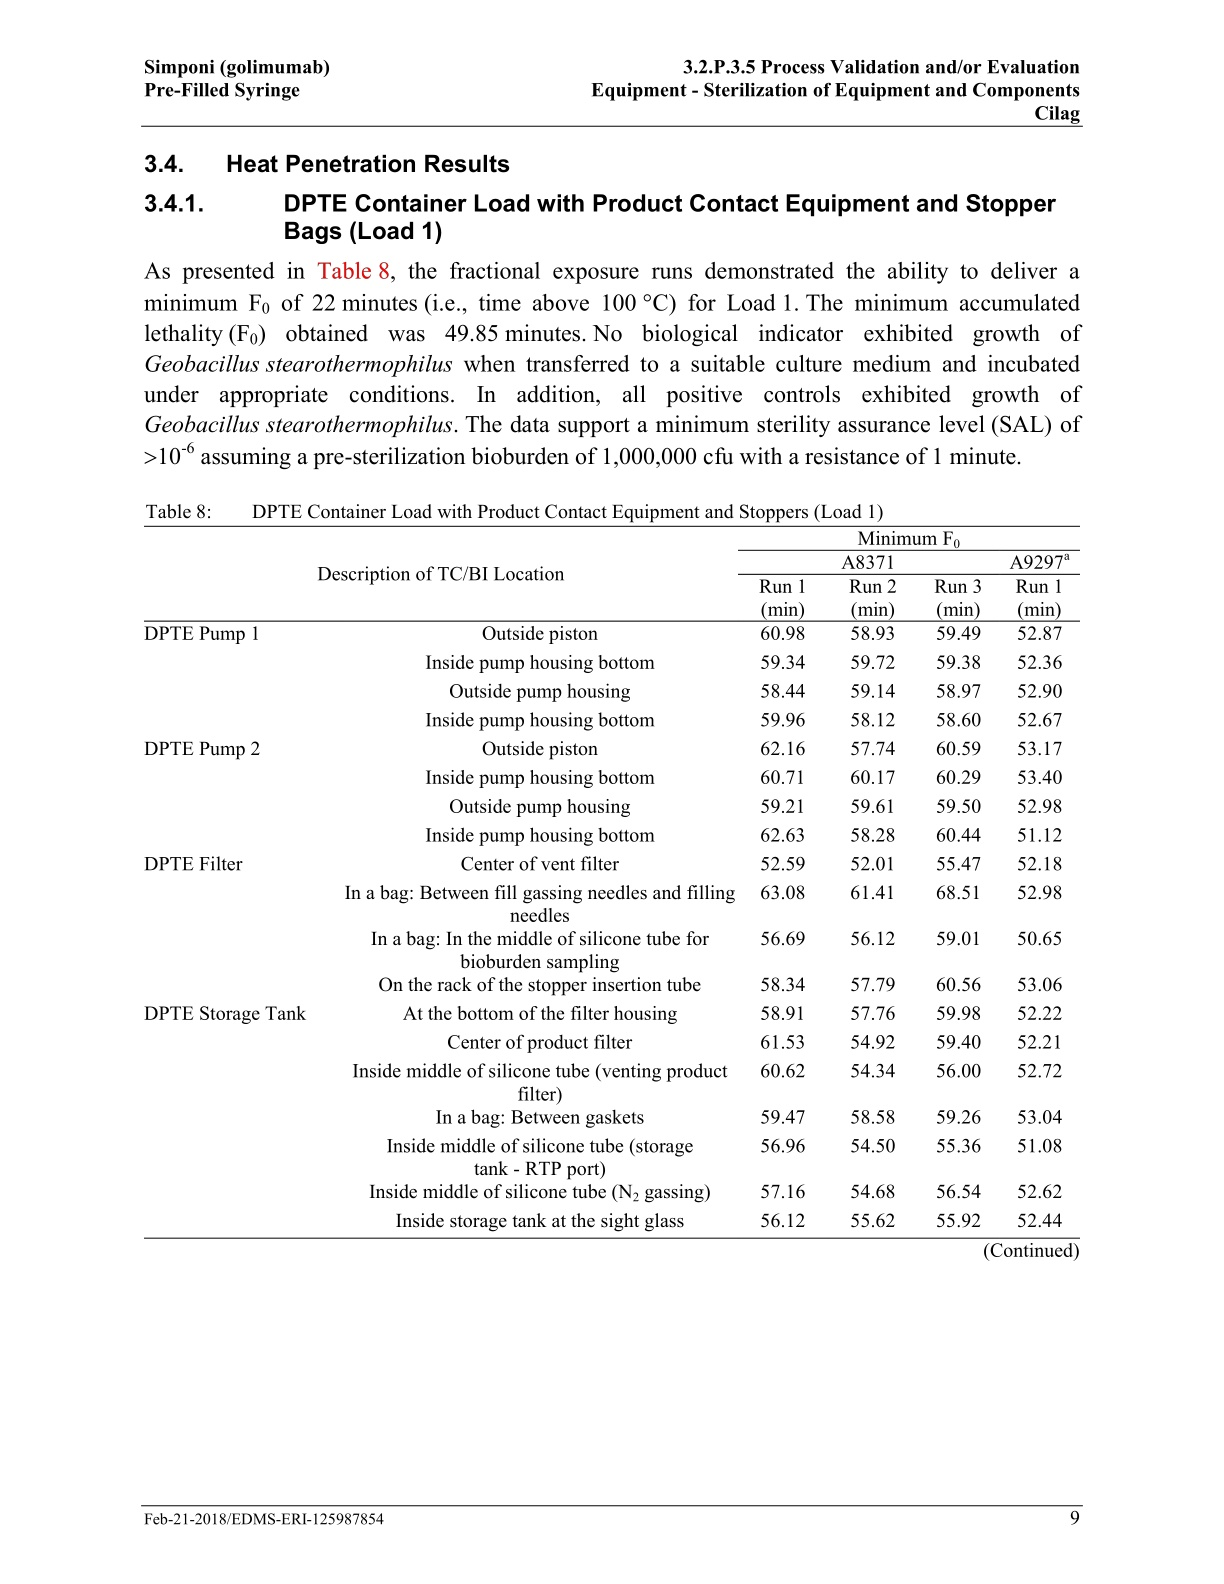partial_lined_merged_cells: (143, 525, 1080, 1239)
